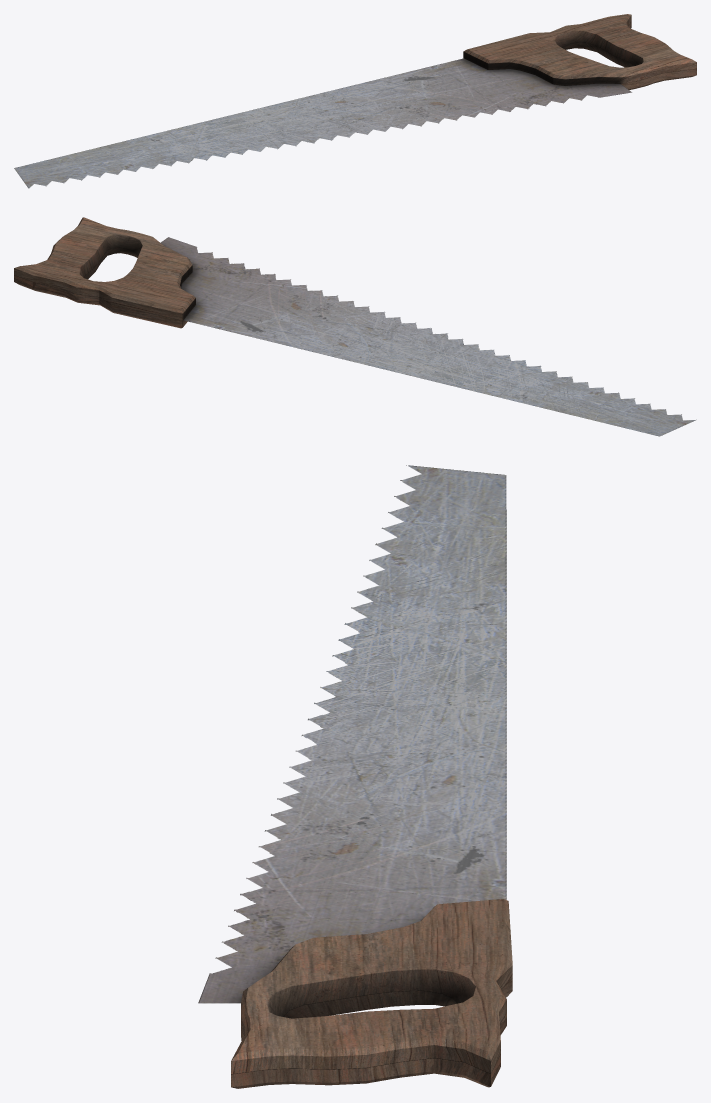
File: saw.FBX
3 views of the same model, one above another, from view 1: azimuth 30°, elevation 25°; view 2: azimuth 150°, elevation 25°; view 3: azimuth 270°, elevation 25° (orthographic). The views are drawn at different scales.
Parts seen in each view (by area): view 1: saw; view 2: saw; view 3: saw.
Part boxes in pixels (bbox=[...]): saw: bbox=[14, 14, 696, 188]; saw: bbox=[14, 217, 696, 436]; saw: bbox=[198, 465, 512, 1088].
Bounding box in the file's own units: 0.6663 × 0.0181 × 0.1454.
